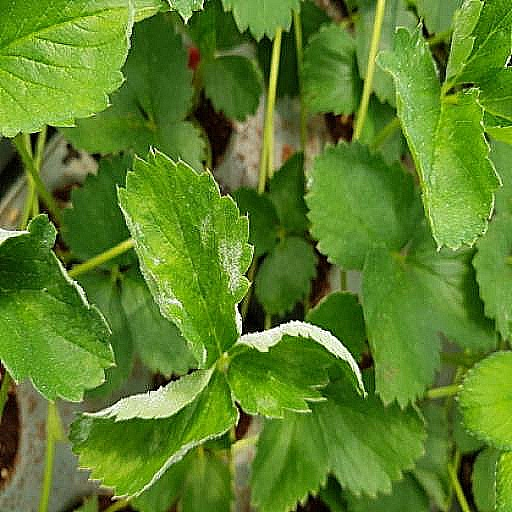Powdery Mildew Leaf: (257, 147, 397, 369), (273, 361, 447, 500), (395, 212, 511, 406), (144, 319, 291, 420)
